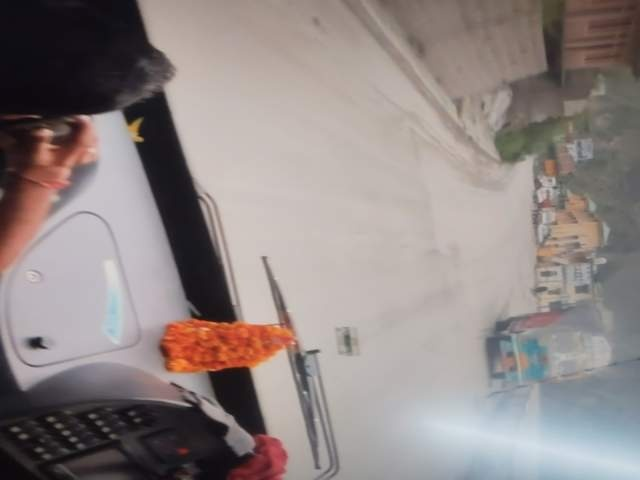pothole: (276, 311, 376, 391)
